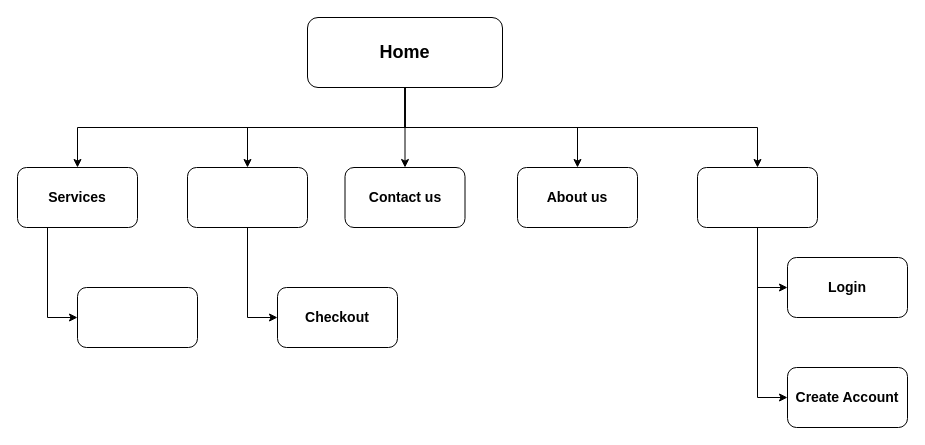
Image size: 925x445. Some labels were removed from this diagram. The box of each missing label's shape, as (x1, y1, x2, y2) in pixels:
Account: (696, 166, 818, 228)
Add to cart: (76, 286, 198, 348)
Cart: (186, 166, 308, 228)
